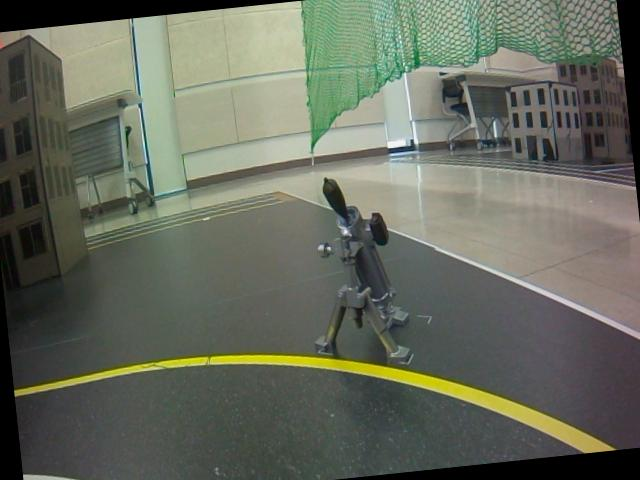Mortar: (300, 169, 412, 372)
